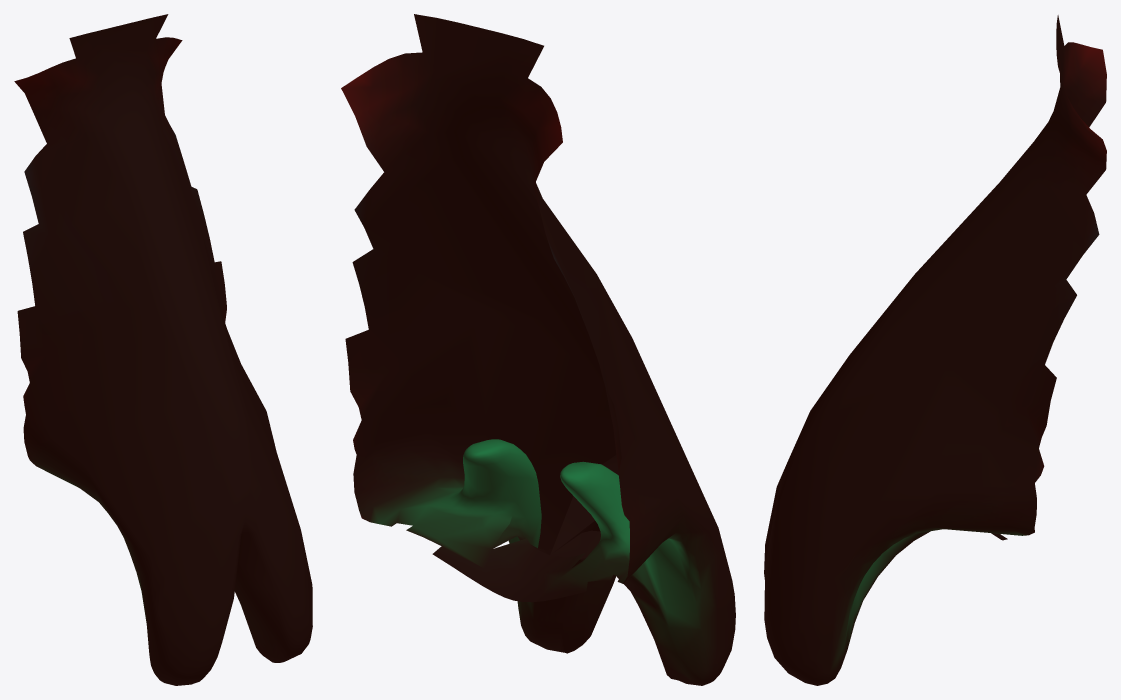
File: nez08.dae
3 views of the same model, side by side, from view 1: azimuth 30°, elevation 25°; view 2: azimuth 150°, elevation 25°; view 3: azimuth 270°, elevation 25° (orthographic). The views are drawn at different scales.
Parts seen in each view (by area): view 1: Object002; view 2: Object002; view 3: Object002.
Part boxes in pixels (bbox=[...]): Object002: bbox=[14, 14, 312, 685]; Object002: bbox=[341, 14, 735, 685]; Object002: bbox=[764, 15, 1106, 685].
Size of the model in its own units: 3.16 by 4.07 by 8.07.
